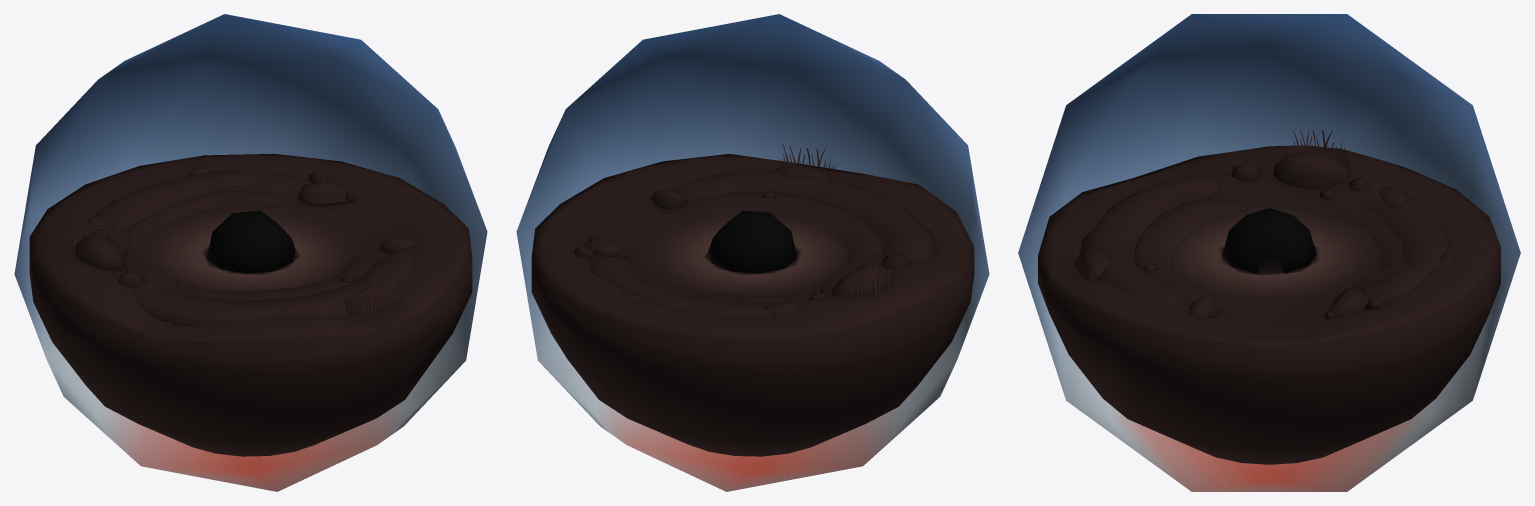
The picture shows the model from 3 angles, left to right: view 1: azimuth 30°, elevation 25°; view 2: azimuth 150°, elevation 25°; view 3: azimuth 270°, elevation 25°; orthographic projection. The views are drawn at different scales.
Visible parts, largest first — view 1: ground.009, envirosphere.007, lodge.008, GRASS.012; view 2: ground.009, envirosphere.007, lodge.008, GRASS.013; view 3: ground.009, envirosphere.007, lodge.008, GRASS.013.
Boxes of the visible parts, bbox=[...] form: ground.009: bbox=[29, 153, 472, 456]; envirosphere.007: bbox=[14, 14, 487, 491]; lodge.008: bbox=[207, 210, 295, 273]; GRASS.012: bbox=[348, 273, 401, 316]; ground.009: bbox=[531, 154, 974, 456]; envirosphere.007: bbox=[516, 14, 989, 491]; lodge.008: bbox=[708, 210, 797, 273]; GRASS.013: bbox=[843, 261, 891, 296]; ground.009: bbox=[1038, 145, 1500, 464]; envirosphere.007: bbox=[1018, 14, 1520, 491]; lodge.008: bbox=[1222, 208, 1316, 273]; GRASS.013: bbox=[1290, 130, 1349, 170].
Bounding box in the file's own units: 13.02 × 13.69 × 13.69.
5 materials, 3 textured.
